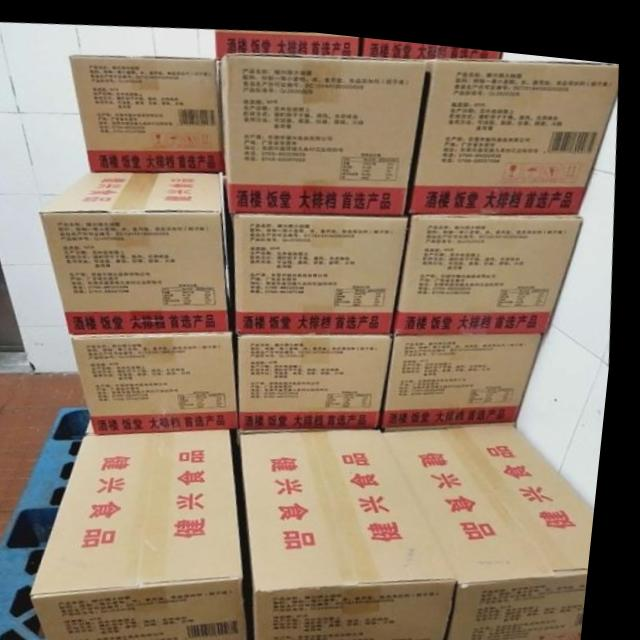box: (389, 413, 604, 640), (249, 421, 469, 640), (42, 422, 261, 640), (223, 47, 427, 206), (412, 48, 618, 203), (44, 166, 236, 332), (398, 200, 586, 324), (236, 205, 411, 327), (70, 52, 228, 169), (80, 325, 248, 431), (388, 320, 548, 417), (244, 324, 398, 423), (214, 24, 358, 54), (364, 30, 500, 50)
